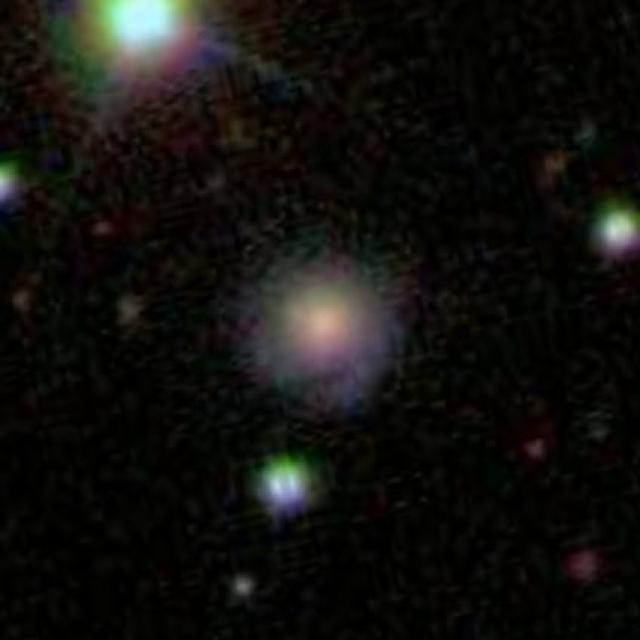galaxy: (234, 242, 420, 425), (248, 445, 327, 522), (581, 203, 640, 271), (1, 164, 32, 217), (562, 547, 599, 589), (535, 148, 572, 187), (116, 288, 148, 328), (1, 285, 39, 314), (518, 438, 556, 462), (231, 571, 258, 601), (94, 218, 115, 243)
star: (6, 4, 321, 189)
